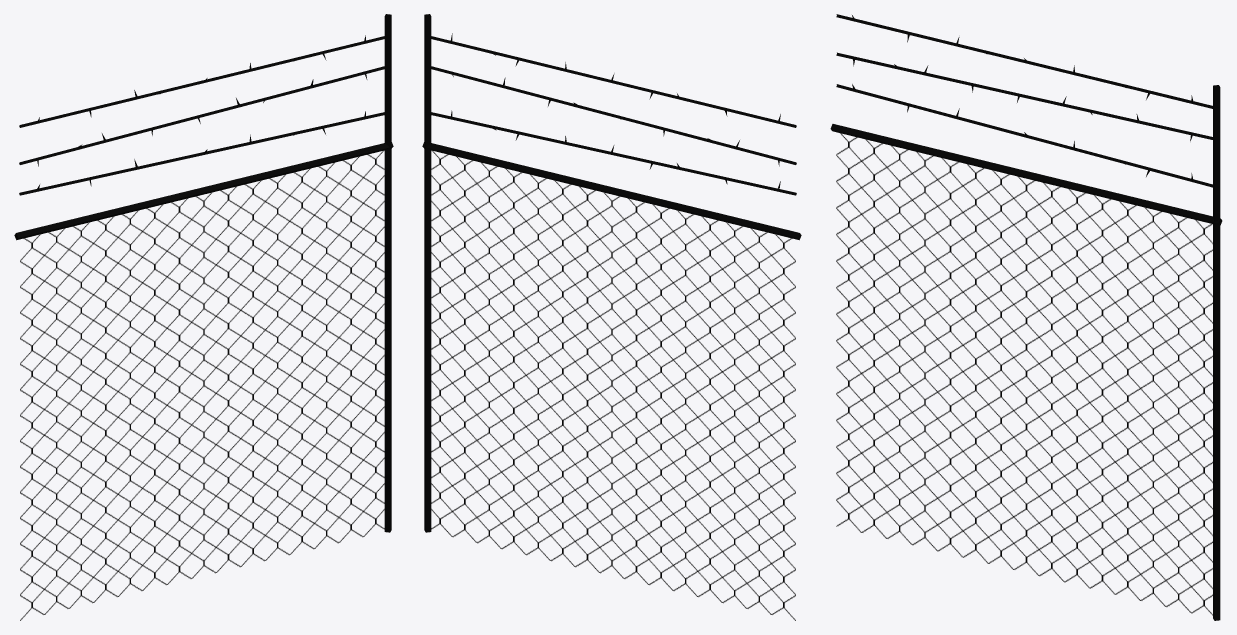
Rendered from fence-metal-barbed-close-r.glb.
The picture shows the model from 3 angles, left to right: view 1: azimuth 30°, elevation 25°; view 2: azimuth 150°, elevation 25°; view 3: azimuth 330°, elevation 25°; orthographic projection. The views are drawn at different scales.
Visible parts, largest first — view 1: fence-metal-barbed-close-r; view 2: fence-metal-barbed-close-r; view 3: fence-metal-barbed-close-r.
Part boxes in pixels (x1,y1,x2,y2): fence-metal-barbed-close-r: [14, 14, 393, 620]; fence-metal-barbed-close-r: [422, 14, 801, 620]; fence-metal-barbed-close-r: [830, 14, 1222, 620].
Bounding box in the file's own units: 2.04 × 2.68 × 0.069.
2 materials, 1 textured.
